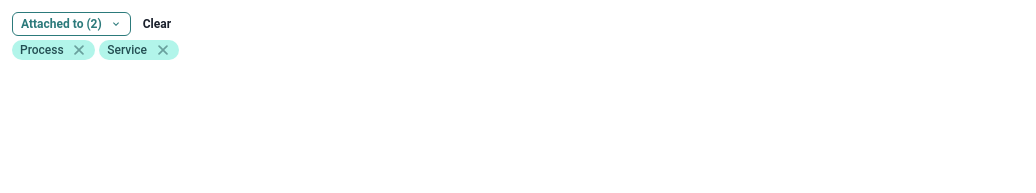
Test case: DocumentationAttachmentFilter › offers to deselect once the whole family is on
The width and height of the screenshot is (1036, 193).
Click the button "Attached to (2)" at (71, 24), box [12, 12, 131, 36]
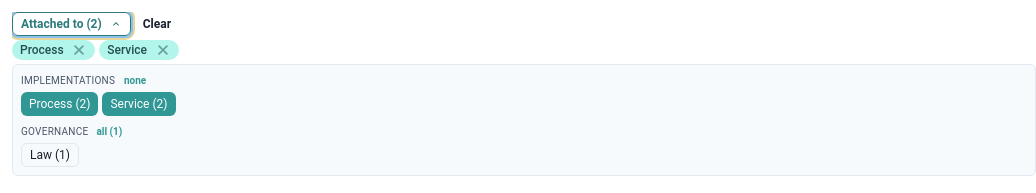
Check: the button "none" is shown, box [123, 75, 147, 86]
